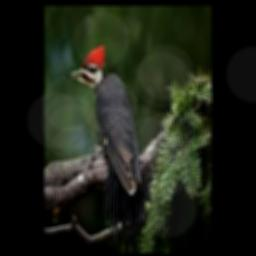Woodpecker: (68, 43, 150, 252)
